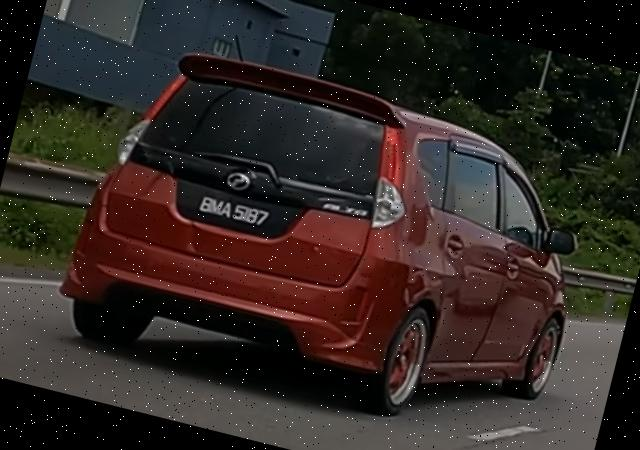License_Plate: (195, 193, 271, 231)
car: (47, 28, 612, 450)
